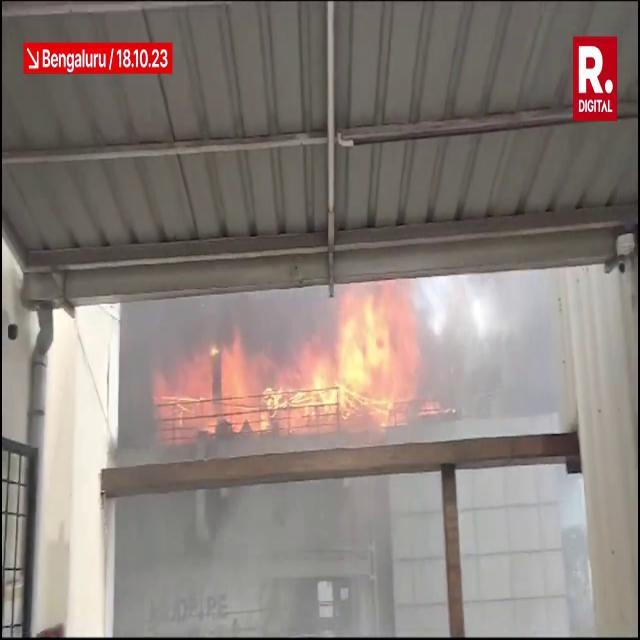Fire: (181, 286, 423, 439)
